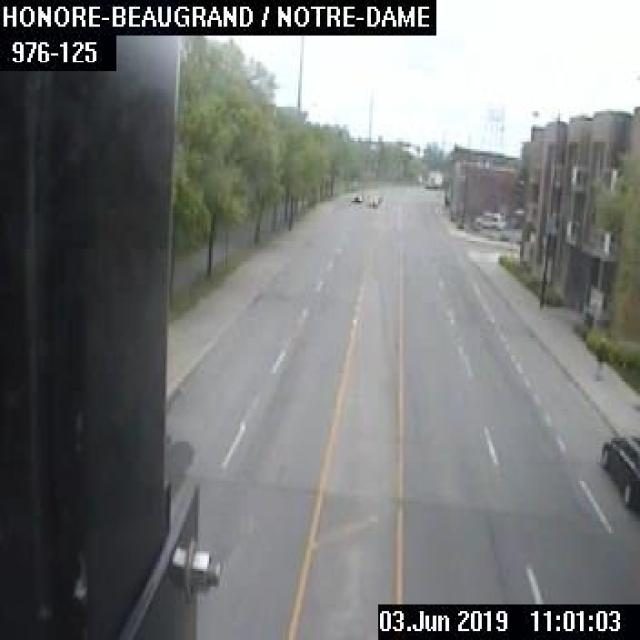vehicle: (598, 431, 638, 511), (473, 209, 504, 228), (363, 192, 380, 208), (348, 191, 362, 201)
